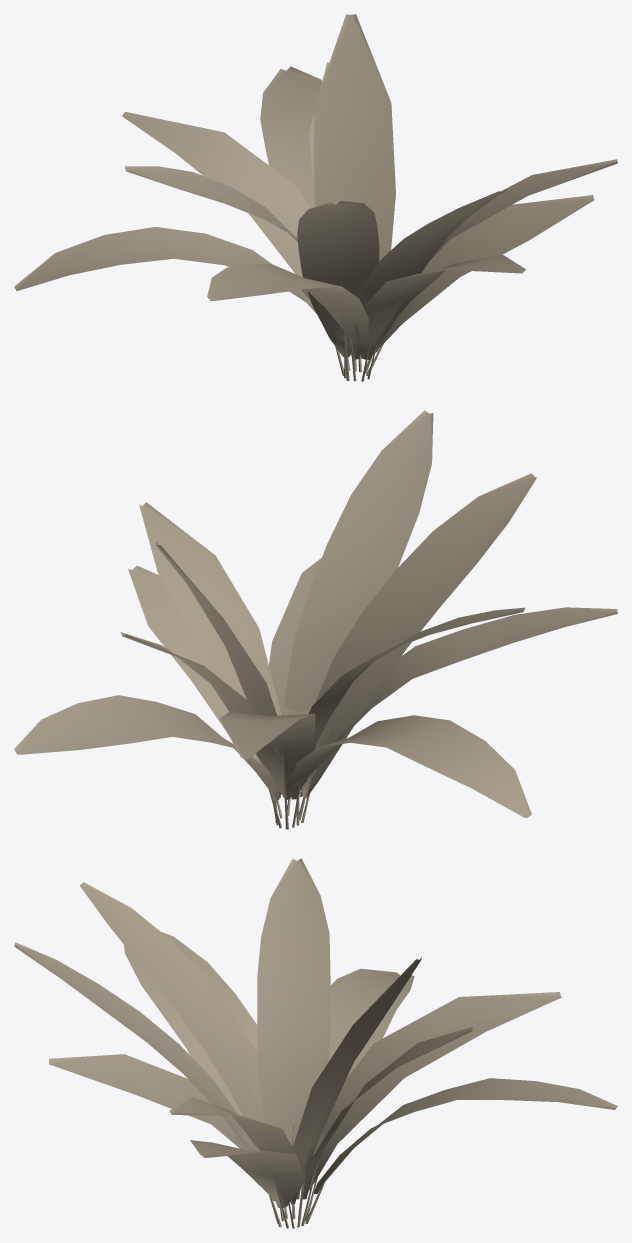
Rendered from SM_IndoorPlant_SnakePlant_01.fbx.
3 renders of one model, top to bottom at view 1: azimuth 30°, elevation 25°; view 2: azimuth 150°, elevation 25°; view 3: azimuth 270°, elevation 25°, orthographic. The views are drawn at different scales.
Parts seen in each view (by area): view 1: S_IndoorPlant_SnakePlant_01; view 2: S_IndoorPlant_SnakePlant_01; view 3: S_IndoorPlant_SnakePlant_01.
Part boxes in pixels (x1,y1,x2,y2): S_IndoorPlant_SnakePlant_01: (14,14,617,381); S_IndoorPlant_SnakePlant_01: (14,410,617,829); S_IndoorPlant_SnakePlant_01: (14,858,617,1228).
Bounding box in the file's own units: 37.67 × 22.15 × 41.1.
